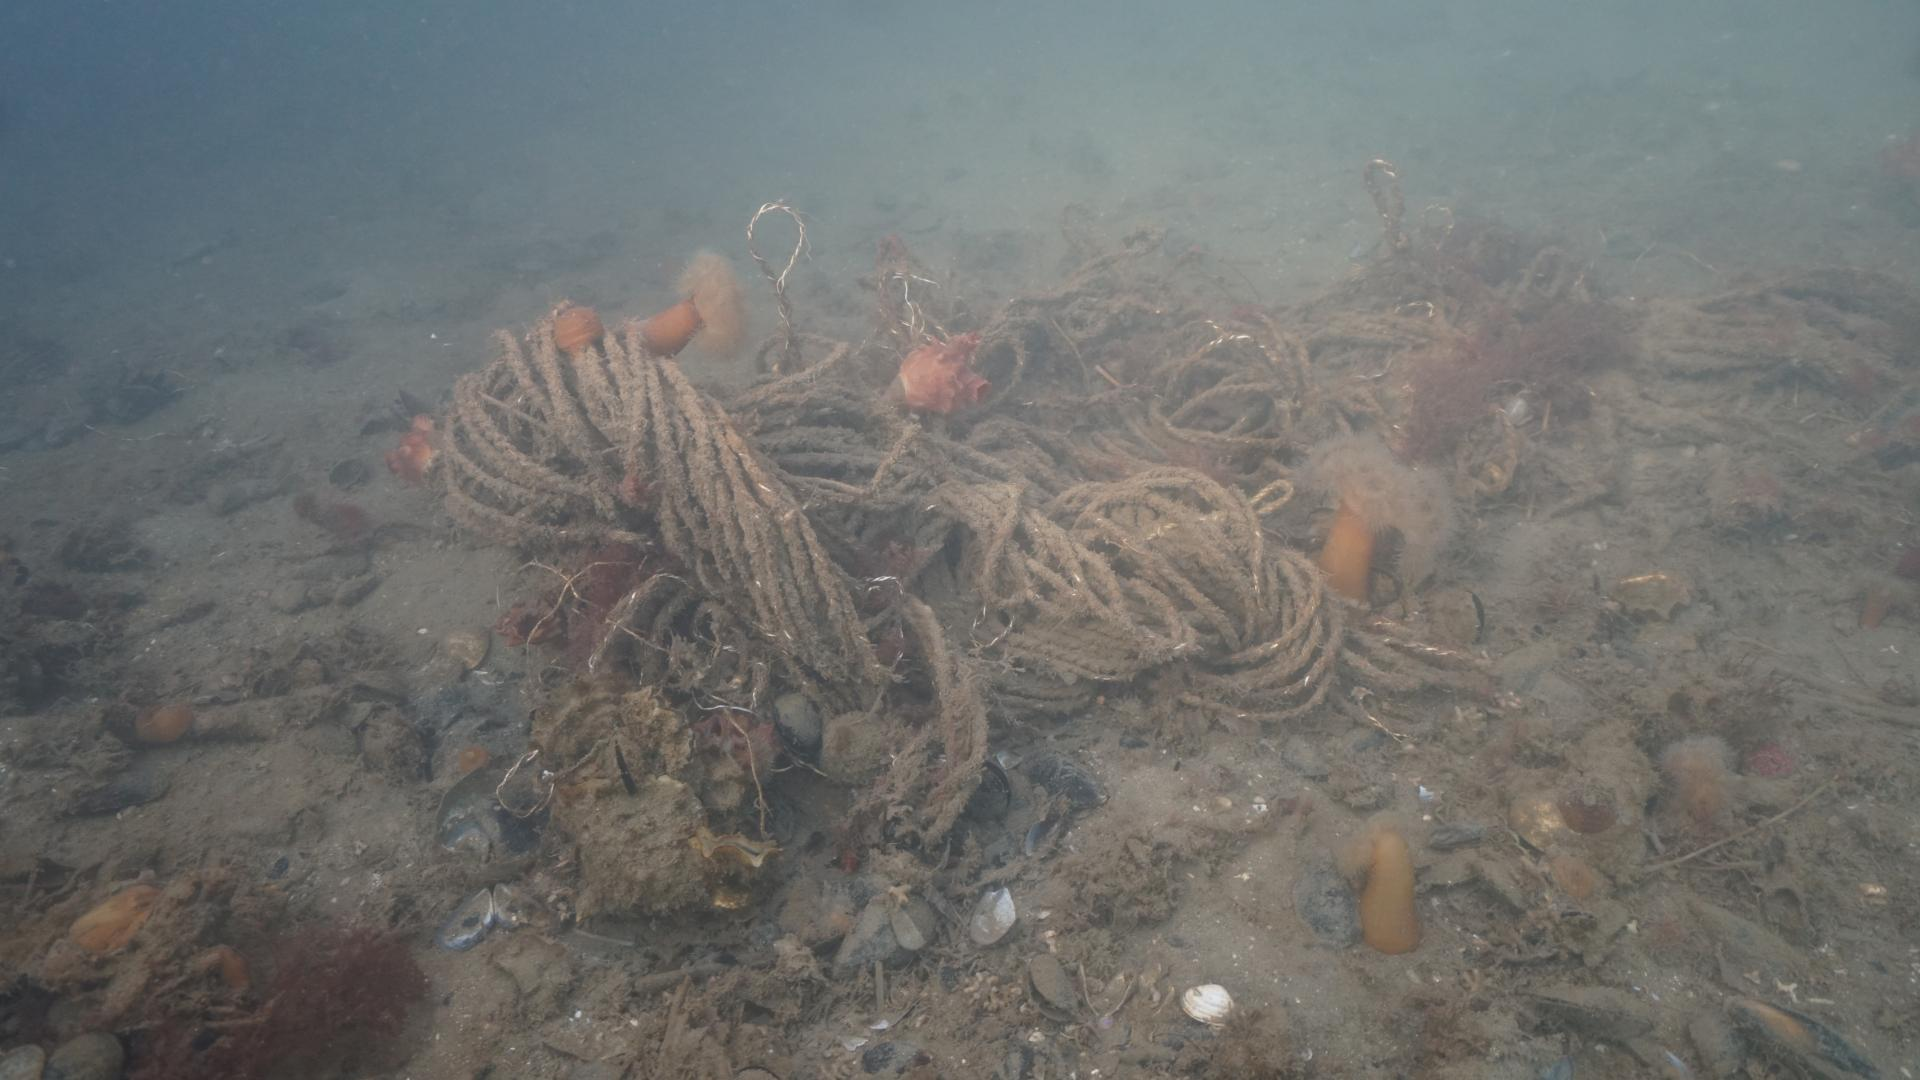bundle of ropes: (402, 156, 1590, 919)
